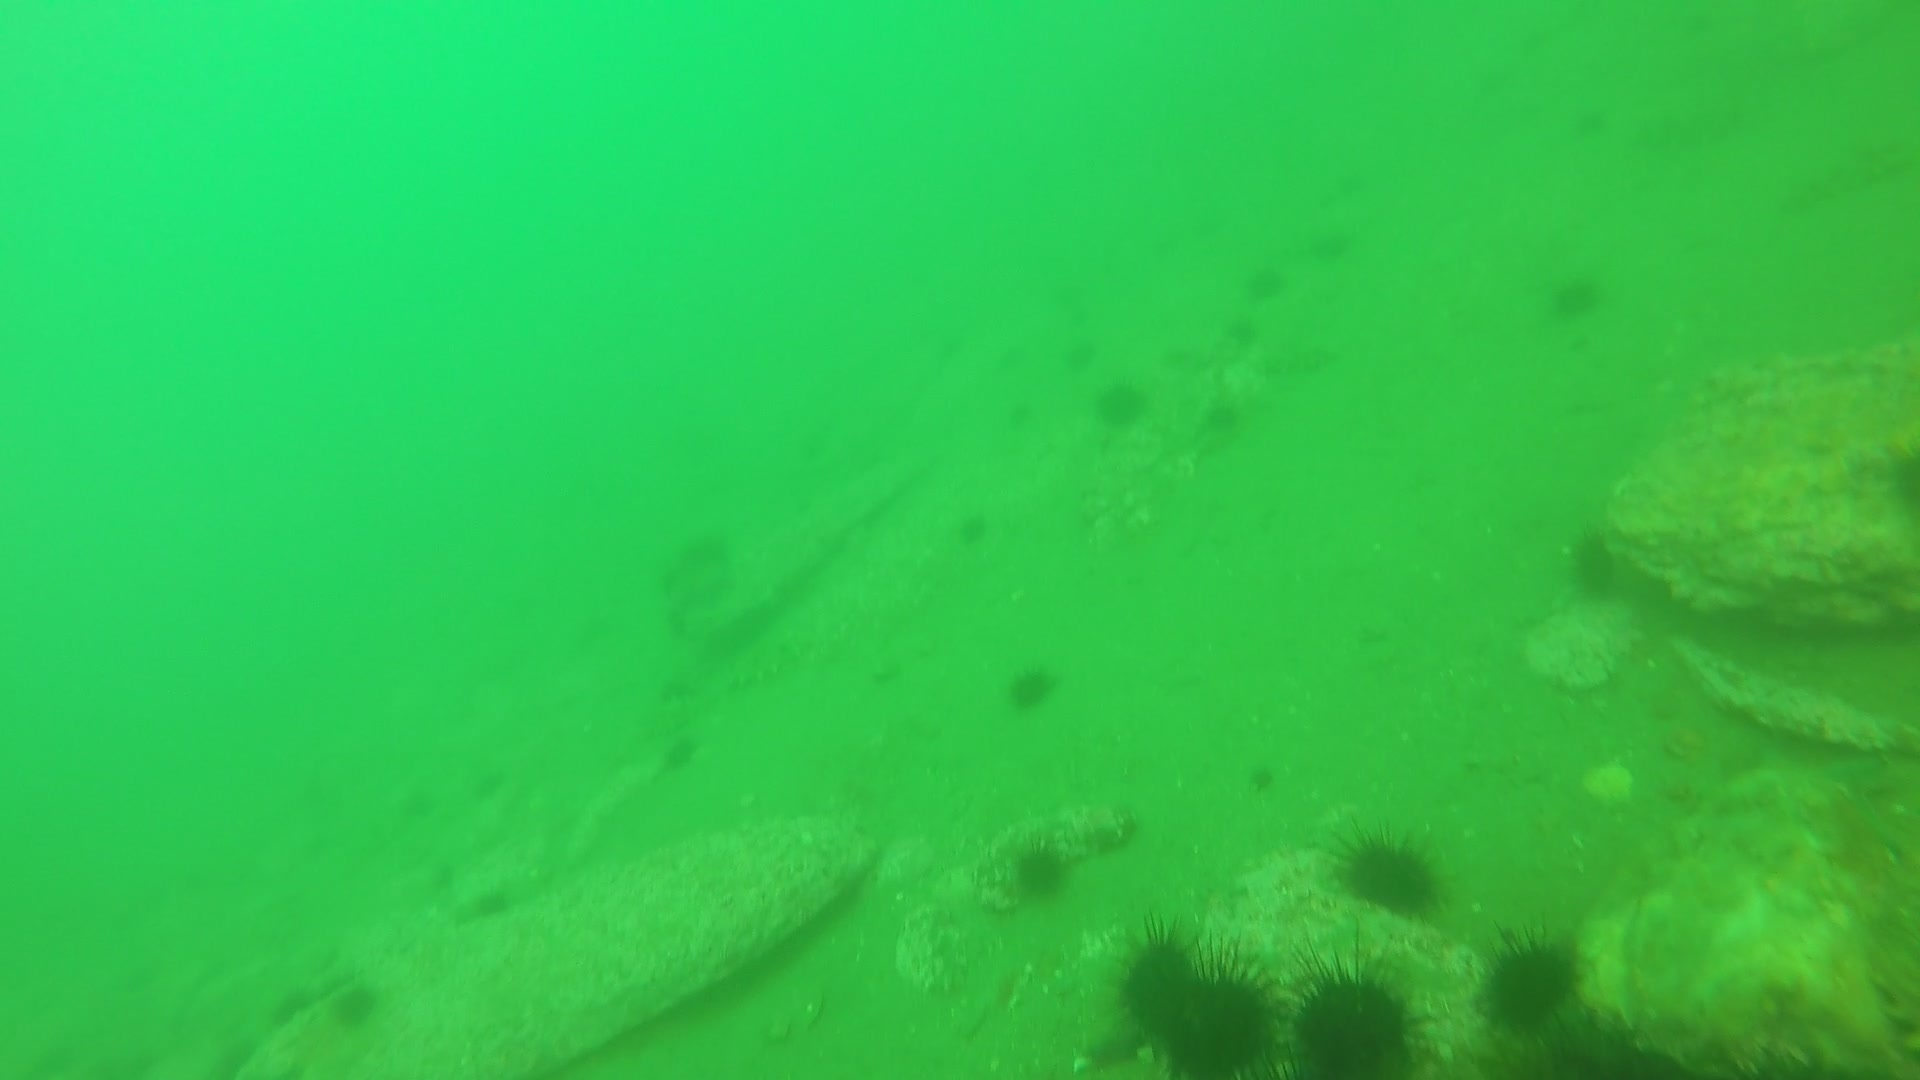echinus: (1126, 940, 1284, 1077), (1284, 955, 1424, 1076), (1476, 927, 1589, 1036), (1108, 920, 1208, 1040), (1331, 824, 1448, 923), (1000, 833, 1077, 907), (1561, 525, 1630, 604), (1542, 266, 1609, 324), (322, 975, 386, 1034), (1089, 375, 1153, 434), (1000, 659, 1063, 715), (1195, 392, 1250, 446), (1240, 258, 1291, 306)
